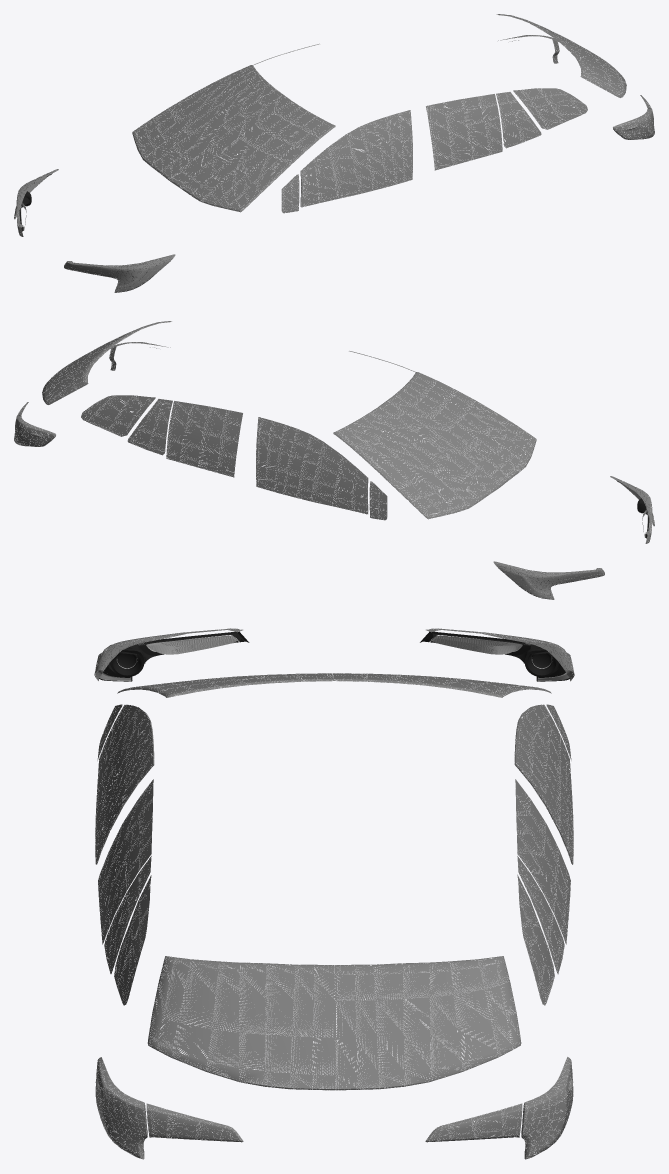
The model's file is Altis.glb.
3 renders of one model, top to bottom at view 1: azimuth 30°, elevation 25°; view 2: azimuth 150°, elevation 25°; view 3: azimuth 270°, elevation 25°, orthographic. The views are drawn at different scales.
Visible parts, largest first — view 1: Exterior_Windows, Exterior_HeadCover, Exterior_HeadLight; view 2: Exterior_Windows, Exterior_HeadCover; view 3: Exterior_Windows, Exterior_HeadCover, Exterior_HeadLight.
Boxes of the visible parts, bbox=[...] form: Exterior_Windows: bbox=[132, 14, 626, 213]; Exterior_HeadCover: bbox=[14, 35, 654, 292]; Exterior_HeadLight: bbox=[19, 173, 164, 290]; Exterior_Windows: bbox=[42, 321, 536, 520]; Exterior_HeadCover: bbox=[14, 342, 654, 599]; Exterior_Windows: bbox=[95, 673, 573, 1090]; Exterior_HeadCover: bbox=[94, 628, 574, 1159]; Exterior_HeadLight: bbox=[98, 631, 571, 681].
Size of the model in its own units: 4.33 by 0.7796 by 1.57.
Materials: 3 (1 with a texture image).
